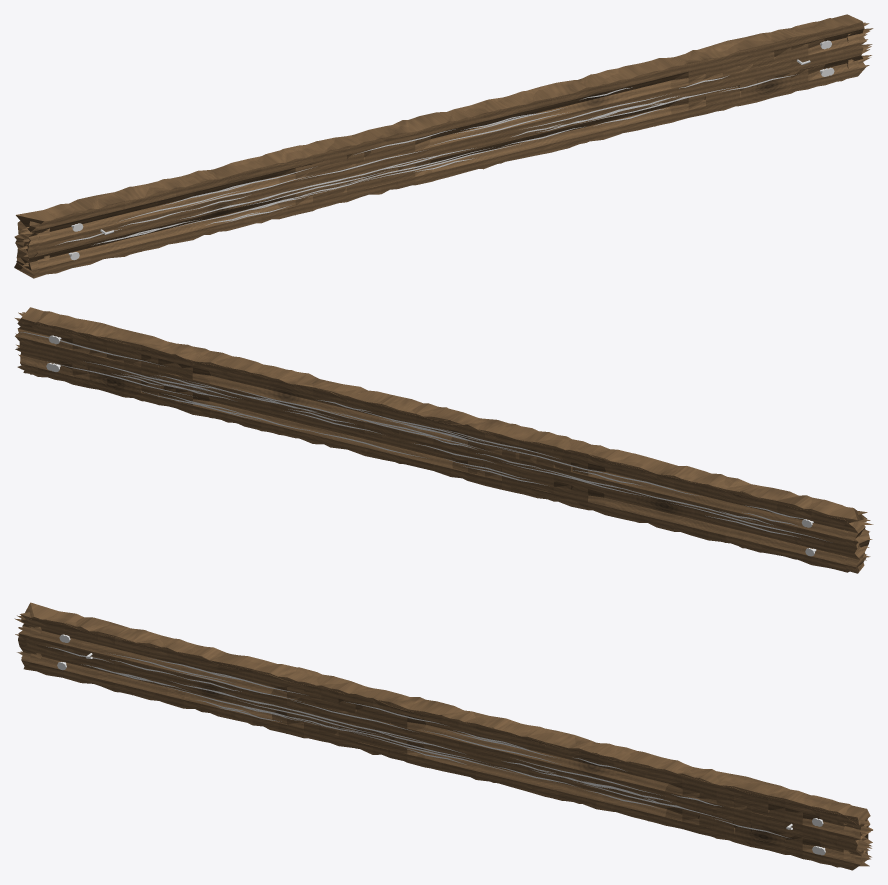
The model's file is EntranceBoardsSource.fbx.
The picture shows the model from 3 angles, top to bottom: view 1: azimuth 30°, elevation 25°; view 2: azimuth 150°, elevation 25°; view 3: azimuth 330°, elevation 25°; orthographic projection.
Visible parts, largest first — view 1: Board1, Board4, Board2, Board0, Board3; view 2: Board2, Board1, Board4, Board0, Board3; view 3: Board1, Board4, Board2, Board0, Board3.
Boxes of the visible parts, x1,y1,x2,y2 form: Board1: (14, 18, 872, 274); Board4: (23, 24, 871, 269); Board2: (16, 21, 873, 276); Board0: (14, 14, 867, 278); Board3: (15, 24, 870, 275); Board2: (15, 312, 872, 572); Board1: (15, 311, 873, 573); Board4: (15, 314, 869, 571); Board0: (15, 307, 866, 573); Board3: (17, 323, 870, 559); Board1: (14, 612, 871, 867); Board4: (18, 617, 872, 867); Board2: (15, 602, 872, 867); Board0: (21, 615, 871, 870); Board3: (17, 615, 870, 866).
Size of the model in its own units: 469 by 29.78 by 20.45.
3 materials, 1 textured.
